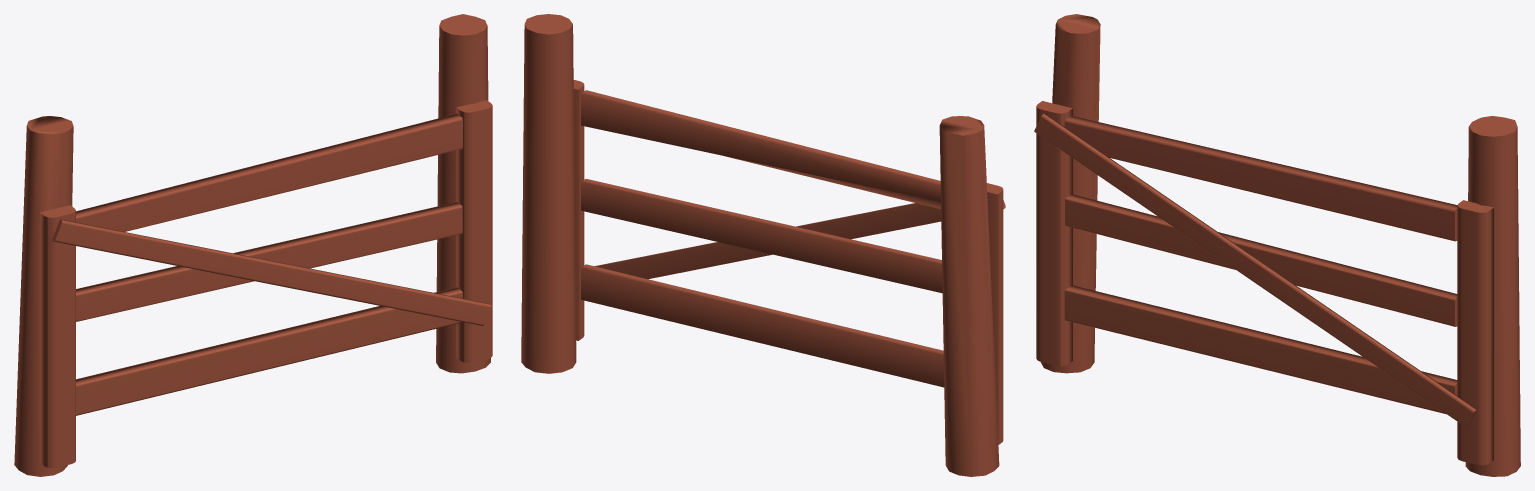
The model's file is Fence1.fbx.
3 renders of one model, left to right at view 1: azimuth 30°, elevation 25°; view 2: azimuth 150°, elevation 25°; view 3: azimuth 330°, elevation 25°, orthographic.
Visible parts, largest first — view 1: Fence1; view 2: Fence1; view 3: Fence1.
Boxes of the visible parts, bbox=[...] form: Fence1: bbox=[14, 14, 492, 476]; Fence1: bbox=[521, 14, 1005, 476]; Fence1: bbox=[1034, 14, 1520, 476].
Bounding box in the file's own units: 209 × 145 × 28.84.
